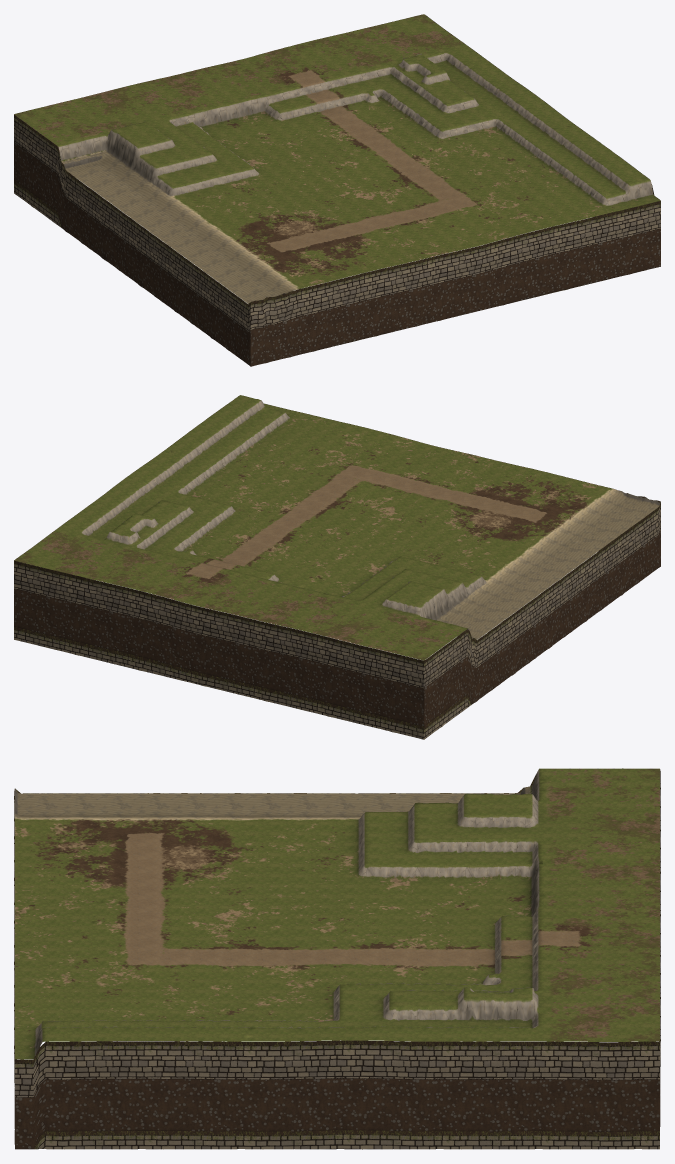
File: terreno_pianura_mobile.gltf
The picture shows the model from 3 angles, top to bottom: view 1: azimuth 30°, elevation 25°; view 2: azimuth 150°, elevation 25°; view 3: azimuth 270°, elevation 25°; orthographic projection. The views are drawn at different scales.
Visible parts, largest first — view 1: Terreno_Superficie_mobile, Terreno_Lati_mobile; view 2: Terreno_Superficie_mobile, Terreno_Lati_mobile; view 3: Terreno_Superficie_mobile, Terreno_Lati_mobile.
Part boxes in pixels (x1,y1,x2,y2): Terreno_Superficie_mobile: (14,14,660,303); Terreno_Lati_mobile: (14,14,660,366); Terreno_Superficie_mobile: (14,395,660,660); Terreno_Lati_mobile: (14,396,660,739); Terreno_Superficie_mobile: (15,768,659,1059); Terreno_Lati_mobile: (14,768,660,1149).
Size of the model in its own units: 52.15 by 10.45 by 52.15.
Materials: 2 (2 with a texture image).
